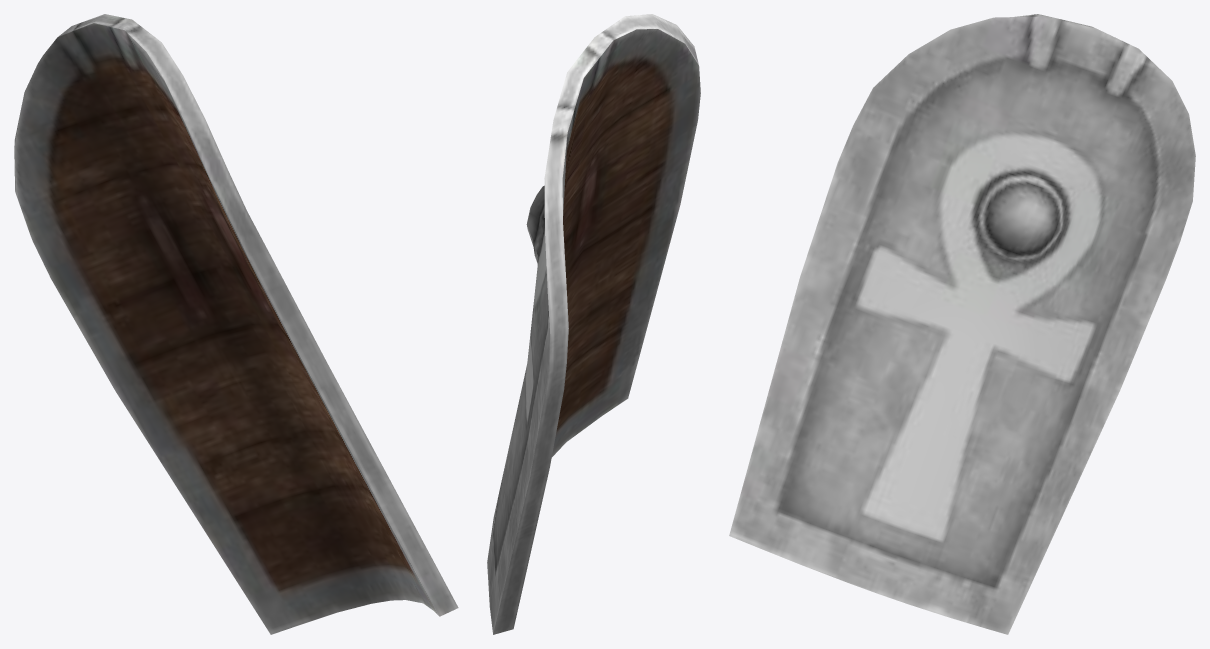
The model's file is shield-ironshields.glb.
3 views of the same model, side by side, from view 1: azimuth 30°, elevation 25°; view 2: azimuth 150°, elevation 25°; view 3: azimuth 270°, elevation 25° (orthographic). The views are drawn at different scales.
Size of the model in its own units: 0.3752 by 0.9865 by 0.7378.
Materials: 1 (1 with a texture image).
